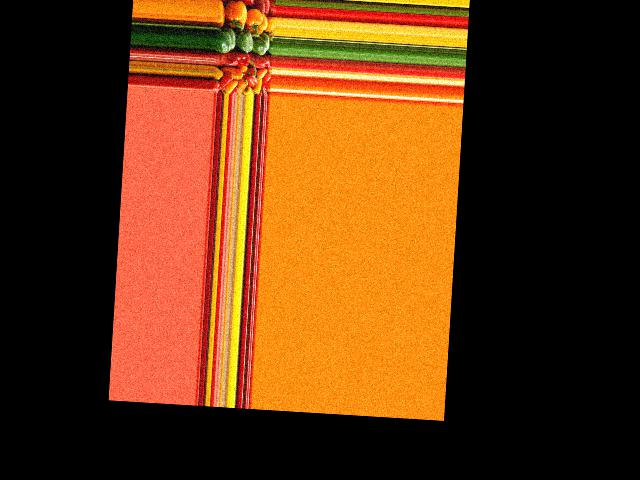bell_pepper: (217, 71, 233, 91)
